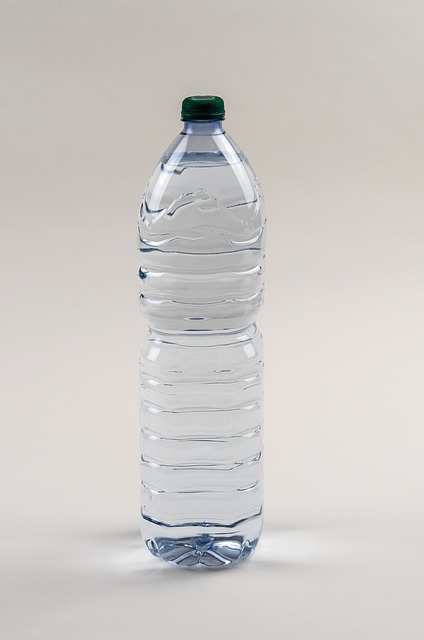plastic_bottle: (125, 84, 274, 576)
